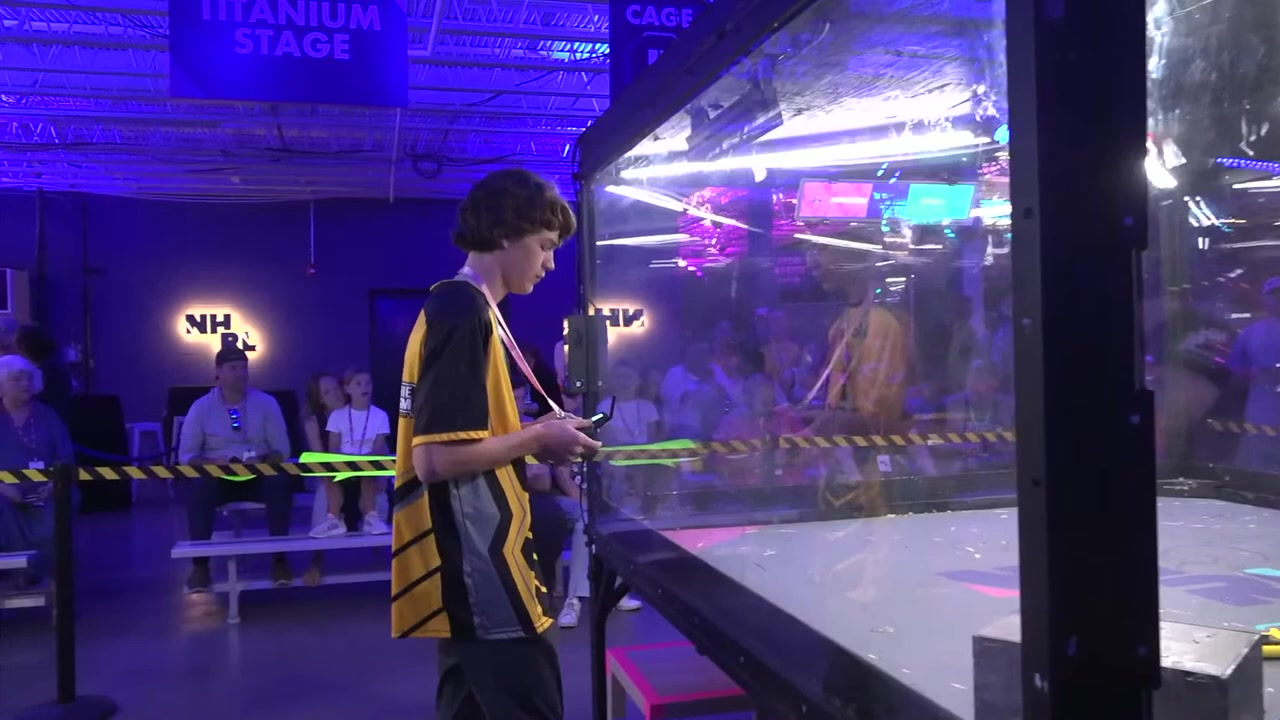housebot: (973, 609, 1265, 720)
